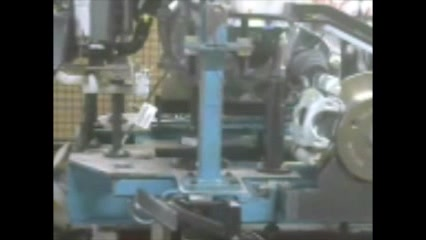DD1: (345, 74, 373, 182)
P1: (289, 72, 343, 166)
